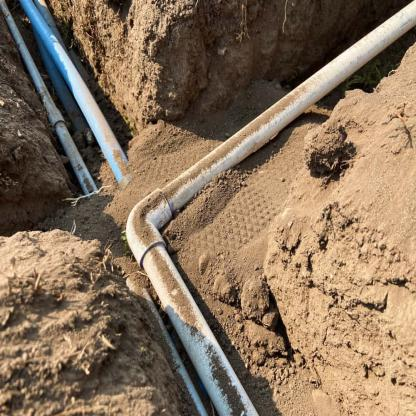PVC: (126, 0, 416, 415), (19, 2, 131, 182), (0, 0, 100, 200)
